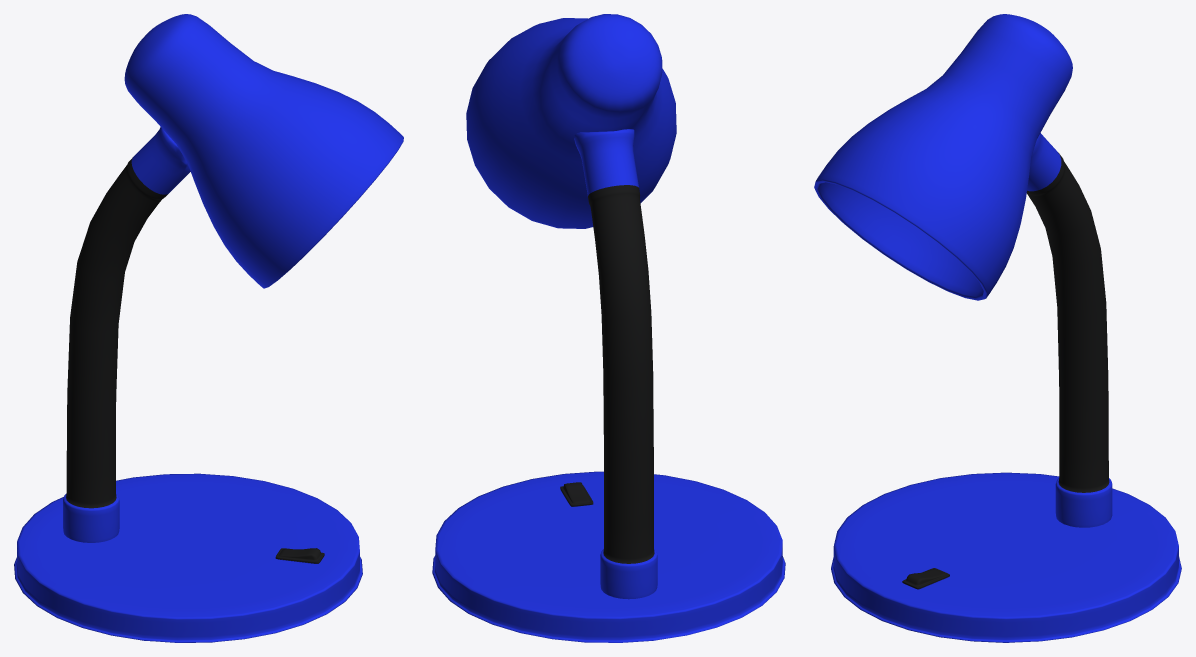
File: lampHightPoly.fbx
The picture shows the model from 3 angles, left to right: view 1: azimuth 30°, elevation 25°; view 2: azimuth 150°, elevation 25°; view 3: azimuth 270°, elevation 25°; orthographic projection.
Visible parts, largest first — view 1: lamp; view 2: lamp; view 3: lamp.
Part boxes in pixels (box(x1,y1,x2,y2)): lamp: box(14, 14, 403, 642); lamp: box(432, 14, 785, 642); lamp: box(814, 14, 1181, 642).
Size of the model in its own units: 5.12 by 8.45 by 5.08.
